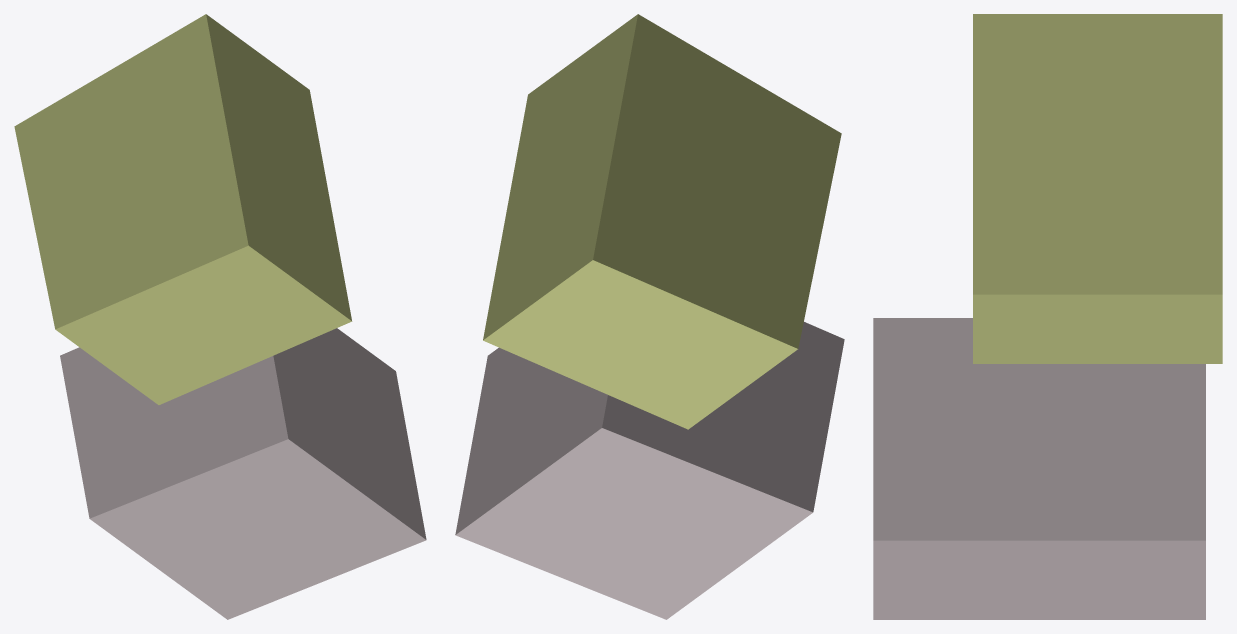
3 views of the same model, side by side, from view 1: azimuth 30°, elevation 25°; view 2: azimuth 150°, elevation 25°; view 3: azimuth 270°, elevation 25° (orthographic). The views are drawn at different scales.
Visible parts, largest first — view 1: 0_1_0_2_0_3_1_1_1_1; view 2: 0_1_0_2_0_3_1_1_1_1; view 3: 0_1_0_2_0_3_1_1_1_1.
Part boxes in pixels (x1=…): 0_1_0_2_0_3_1_1_1_1: x1=14, y1=14, x2=426, y2=619; 0_1_0_2_0_3_1_1_1_1: x1=455, y1=14, x2=844, y2=619; 0_1_0_2_0_3_1_1_1_1: x1=873, y1=14, x2=1222, y2=619.
Size of the model in its own units: 13.39 by 22.5 by 12.6.
